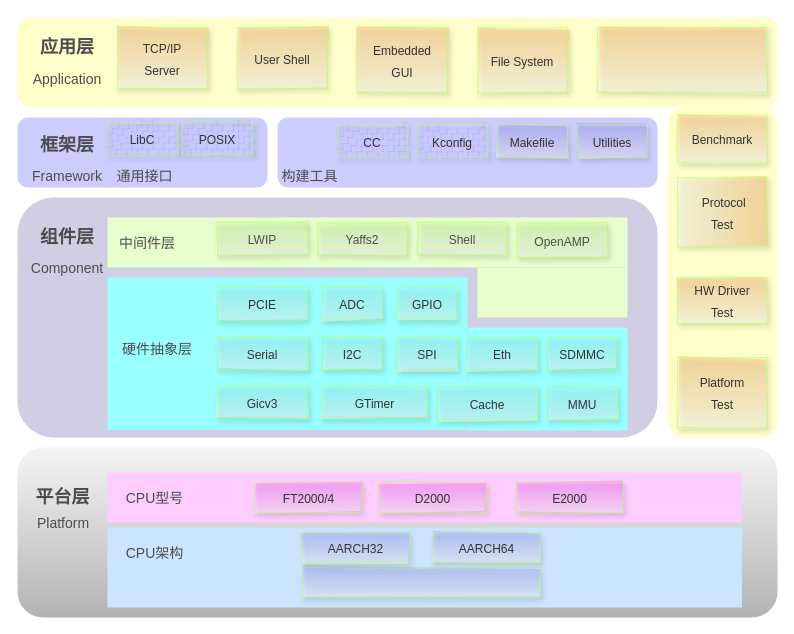
The diagram is 794 pixels wide and 634 high, and some of its shapes have lost their labels. Here are the shapes that lost their labels. From the top down, the centre of each, then its label:
the point at 683,61: Port for Other RTOS
the point at 552,292: 中间件接口层
the point at 422,583: Armv8-a
